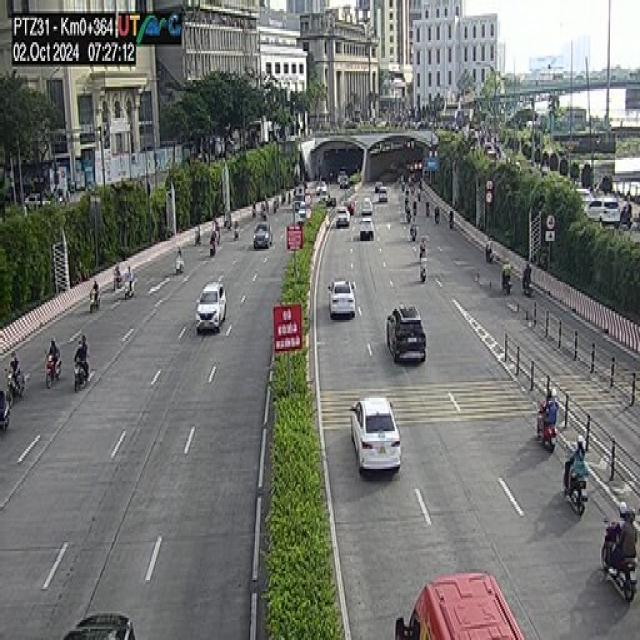car: (349, 396, 401, 474), (195, 280, 226, 333), (326, 278, 355, 318), (252, 220, 272, 249)
motorcycle: (600, 516, 638, 602), (562, 449, 586, 515), (536, 402, 558, 451), (44, 349, 61, 387), (73, 356, 89, 391), (89, 289, 100, 311), (124, 276, 134, 298)
person: (45, 336, 60, 376), (9, 351, 20, 387)
